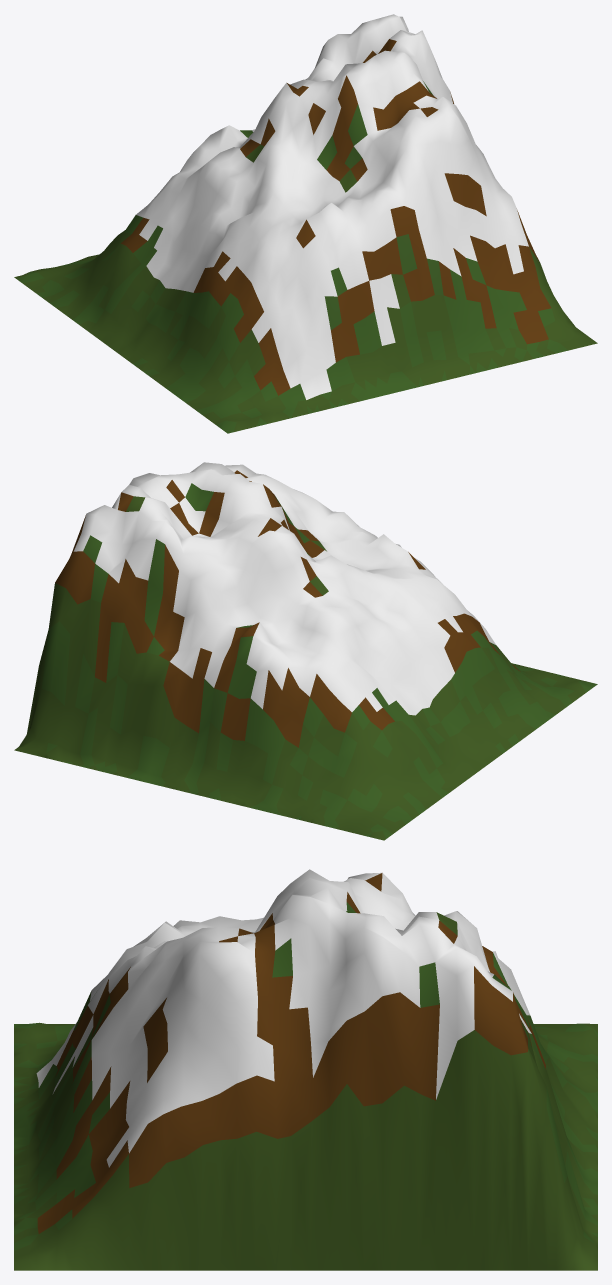
Rendered from S0.mountain.A.glb.
3 views of the same model, one above another, from view 1: azimuth 30°, elevation 25°; view 2: azimuth 150°, elevation 25°; view 3: azimuth 270°, elevation 25° (orthographic). The views are drawn at different scales.
Parts seen in each view (by area): view 1: Landscape.004; view 2: Landscape.004; view 3: Landscape.004.
Part boxes in pixels (x1=…): Landscape.004: x1=14, y1=14, x2=597, y2=433; Landscape.004: x1=14, y1=462, x2=597, y2=840; Landscape.004: x1=14, y1=869, x2=597, y2=1270.
Size of the model in its own units: 303 by 182 by 303.
